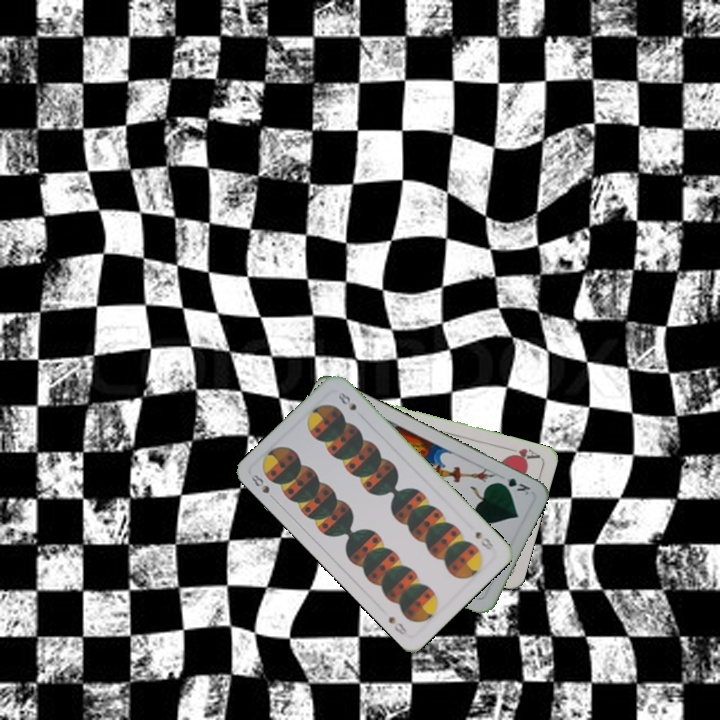GK: (494, 474, 533, 497)
HA: (502, 443, 543, 464)
S8: (247, 470, 279, 504), (471, 527, 496, 552)
